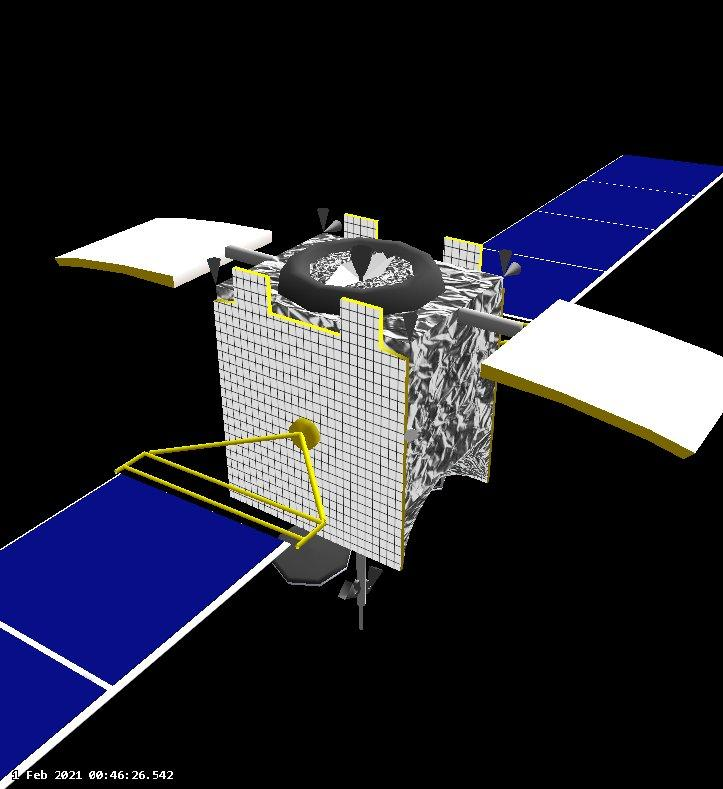antenna: (478, 298, 723, 460), (53, 216, 275, 290), (272, 525, 354, 587)
body: (213, 233, 507, 574)
solar: (0, 418, 332, 789), (447, 150, 723, 322)
thruster: (348, 243, 374, 283), (206, 256, 229, 290), (313, 203, 332, 233), (402, 312, 419, 343), (337, 580, 360, 601), (367, 563, 385, 588), (497, 247, 513, 275), (502, 262, 522, 278), (323, 219, 343, 234)
